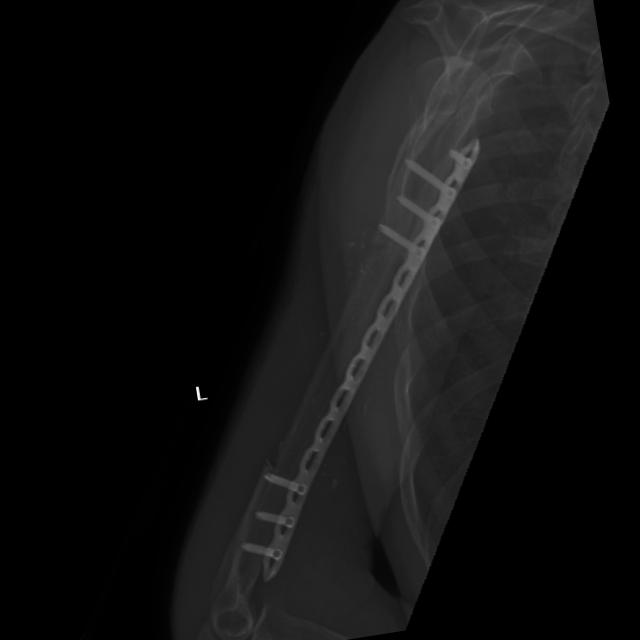humerus fracture: (354, 231, 402, 280)
